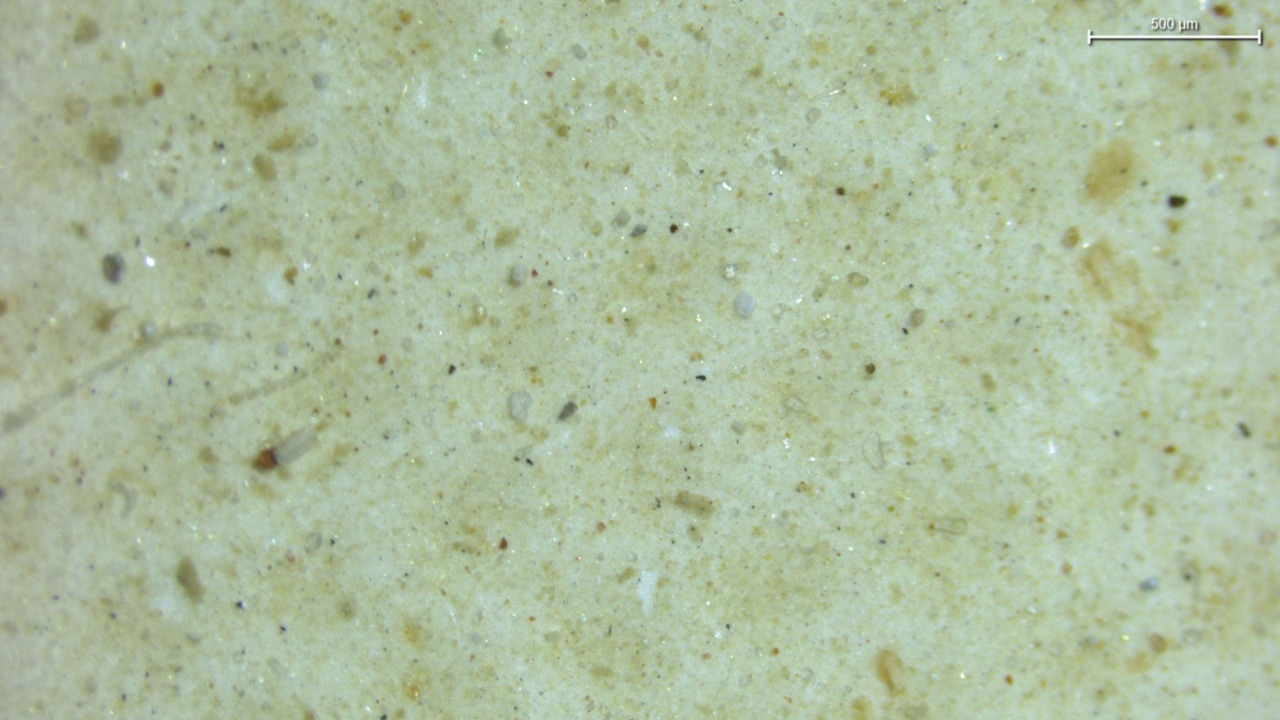microplastic_fragment: (509, 390, 532, 420), (734, 292, 756, 317), (510, 265, 530, 286)
